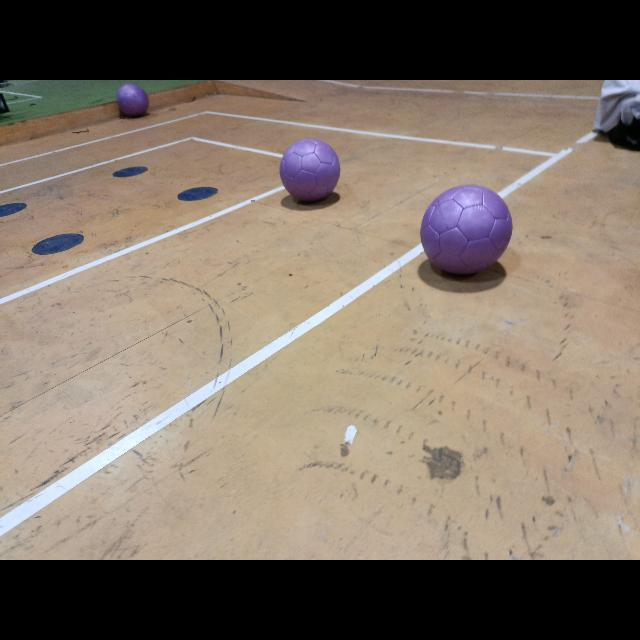P: (421, 184, 512, 274), (280, 138, 340, 202), (118, 84, 148, 116)
